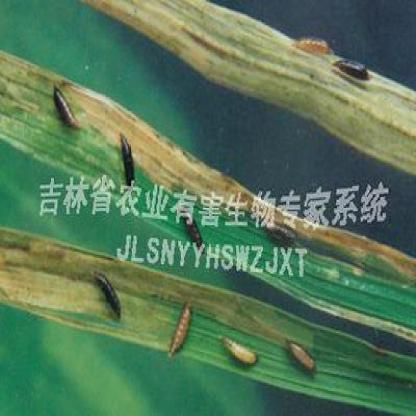whorl-maggot: (162, 298, 200, 365), (92, 265, 126, 330), (46, 80, 84, 134), (328, 42, 374, 86), (219, 328, 264, 372), (283, 330, 321, 382), (292, 32, 334, 62), (117, 132, 136, 180)
